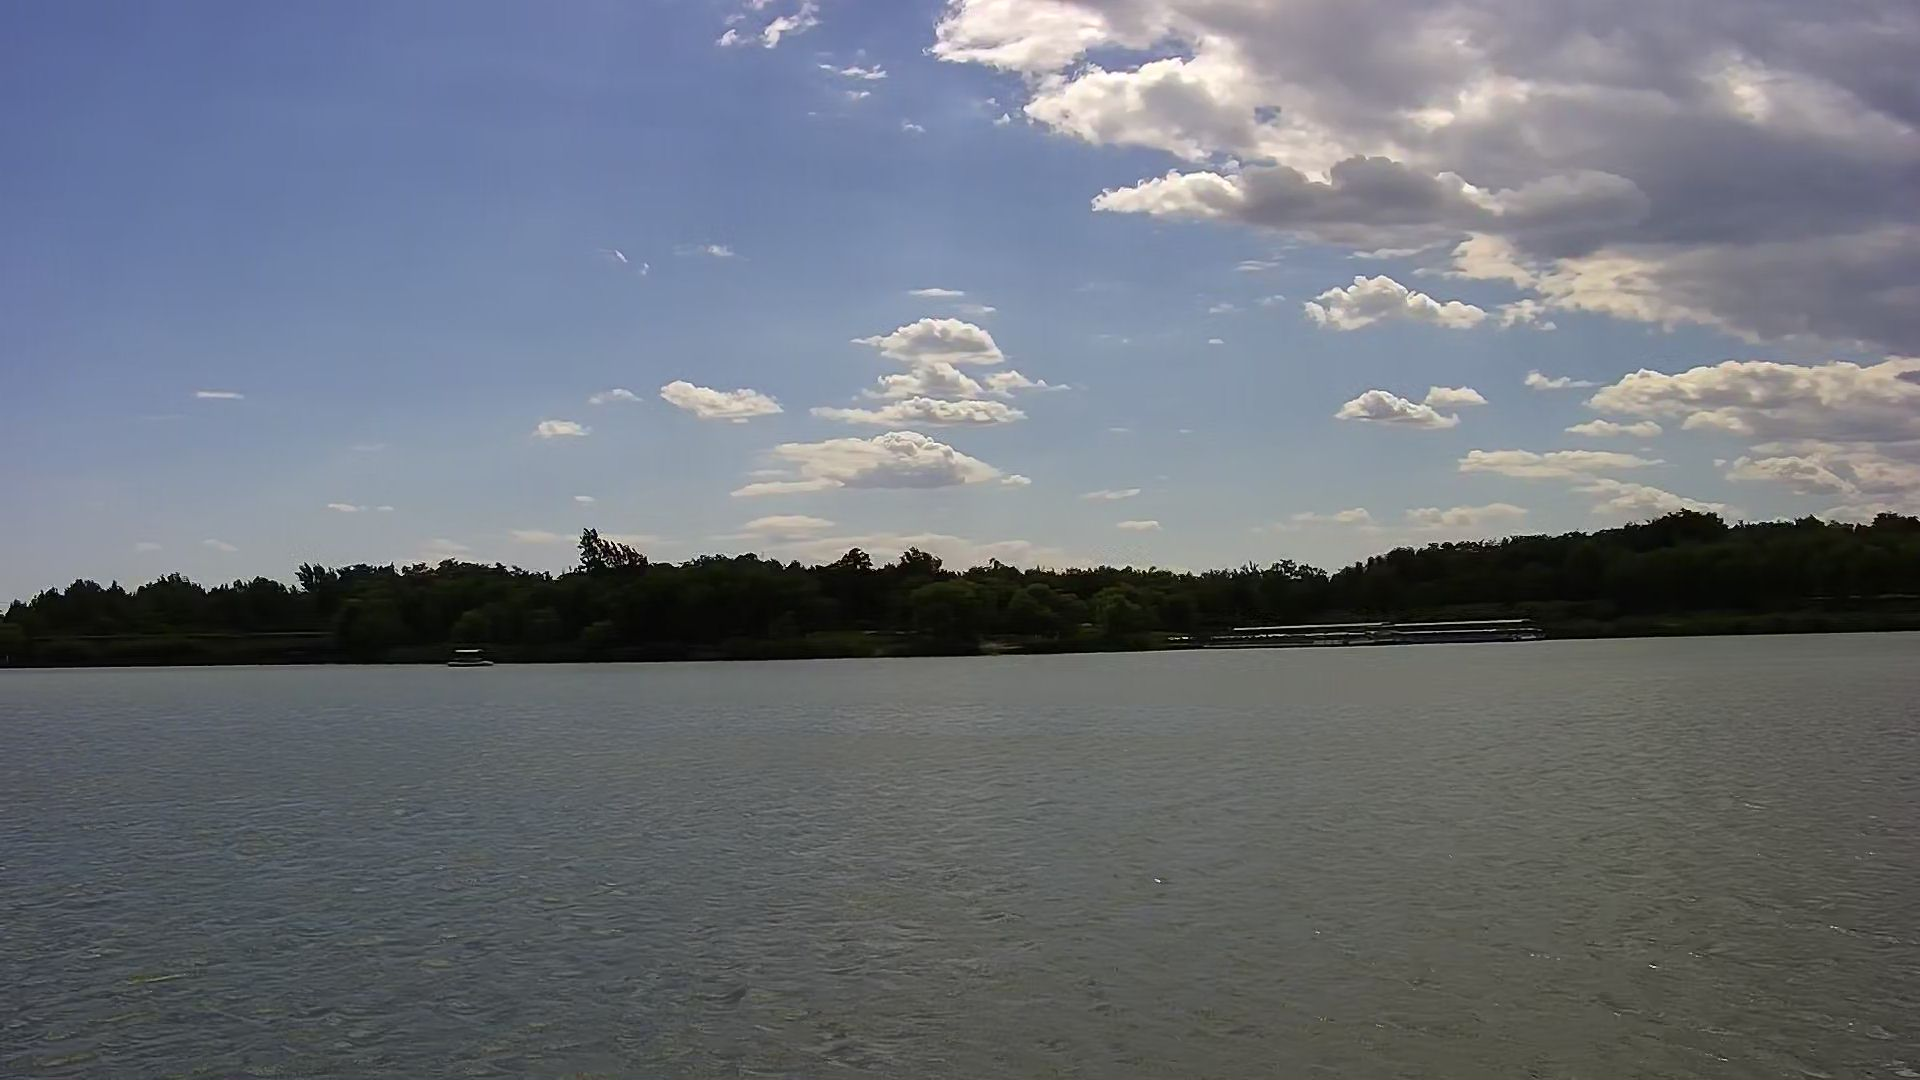boat: (444, 641, 491, 673)
harbor: (1200, 613, 1548, 650)
